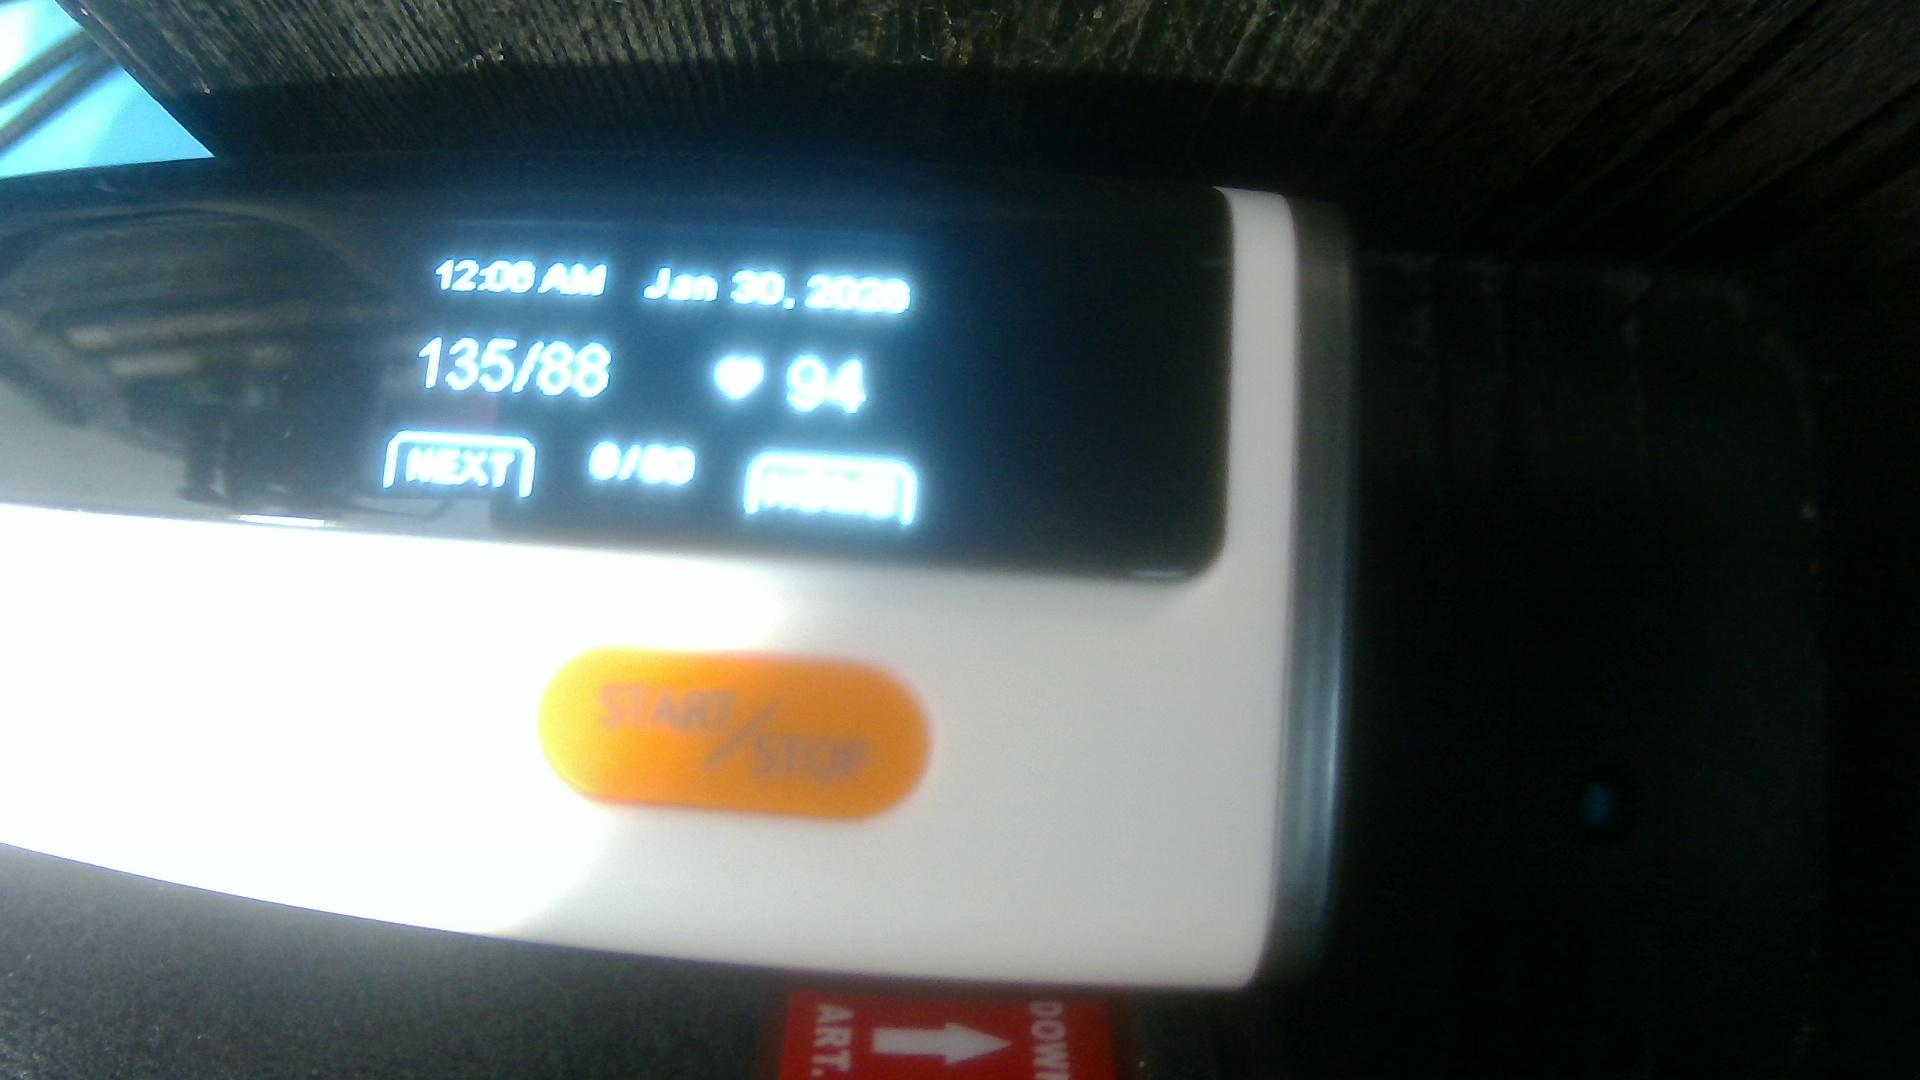DISPLAY: (7, 177, 1208, 580)
